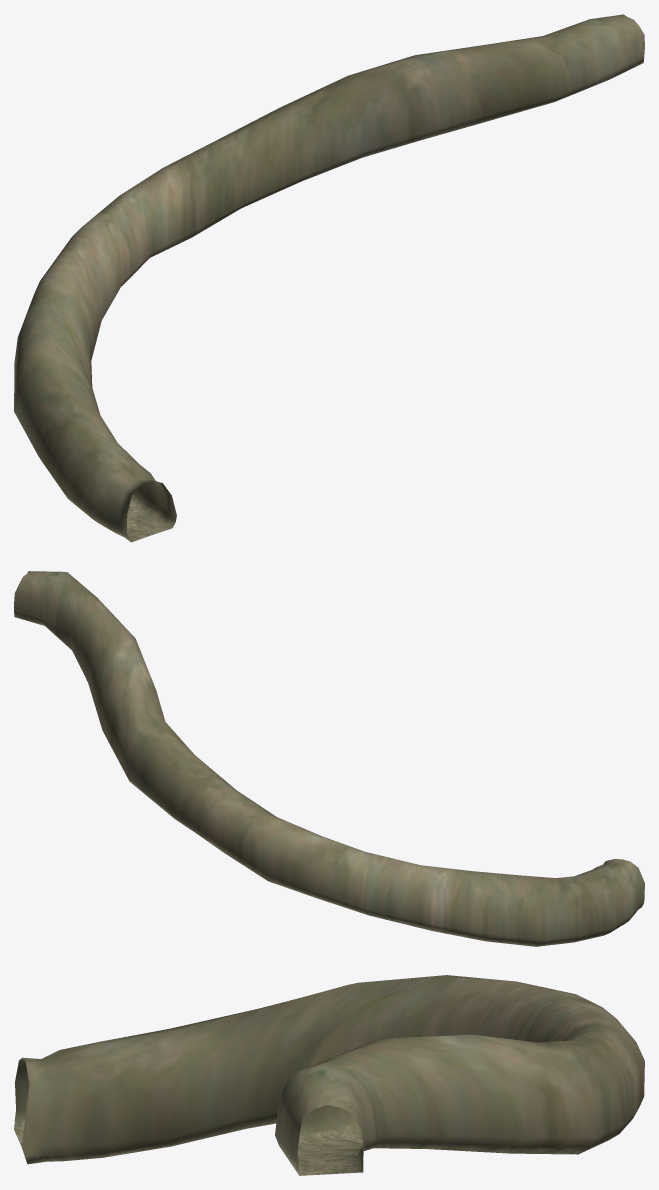
Rendered from EKH_JAIL_PS_JA_TUNNEL_03.fbx.
3 views of the same model, one above another, from view 1: azimuth 30°, elevation 25°; view 2: azimuth 150°, elevation 25°; view 3: azimuth 270°, elevation 25° (orthographic). The views are drawn at different scales.
Visible parts, largest first — view 1: EKH_JAIL_PS_JA_TUNNEL_03; view 2: EKH_JAIL_PS_JA_TUNNEL_03; view 3: EKH_JAIL_PS_JA_TUNNEL_03.
Part boxes in pixels (x1,y1,x2,y2): EKH_JAIL_PS_JA_TUNNEL_03: (14, 14, 644, 542); EKH_JAIL_PS_JA_TUNNEL_03: (14, 571, 644, 946); EKH_JAIL_PS_JA_TUNNEL_03: (14, 975, 644, 1175).
Size of the model in its own units: 318823 by 153616 by 180060.
1 material, 1 textured.
